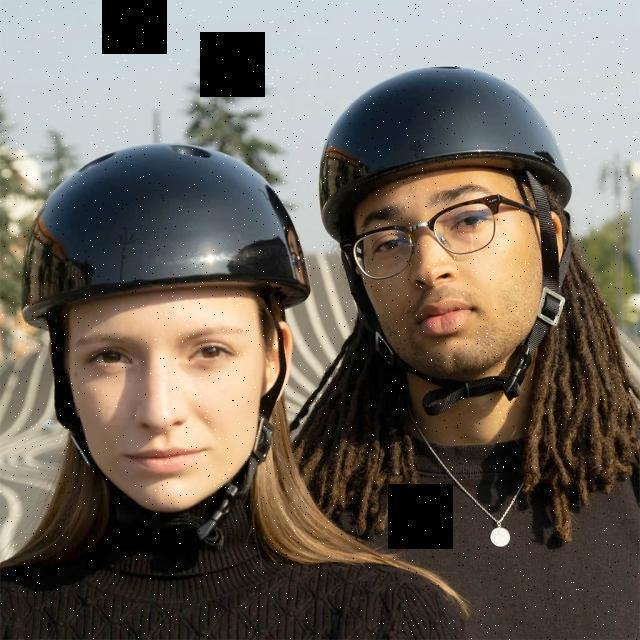helmet: (22, 144, 316, 512), (314, 60, 582, 404)
